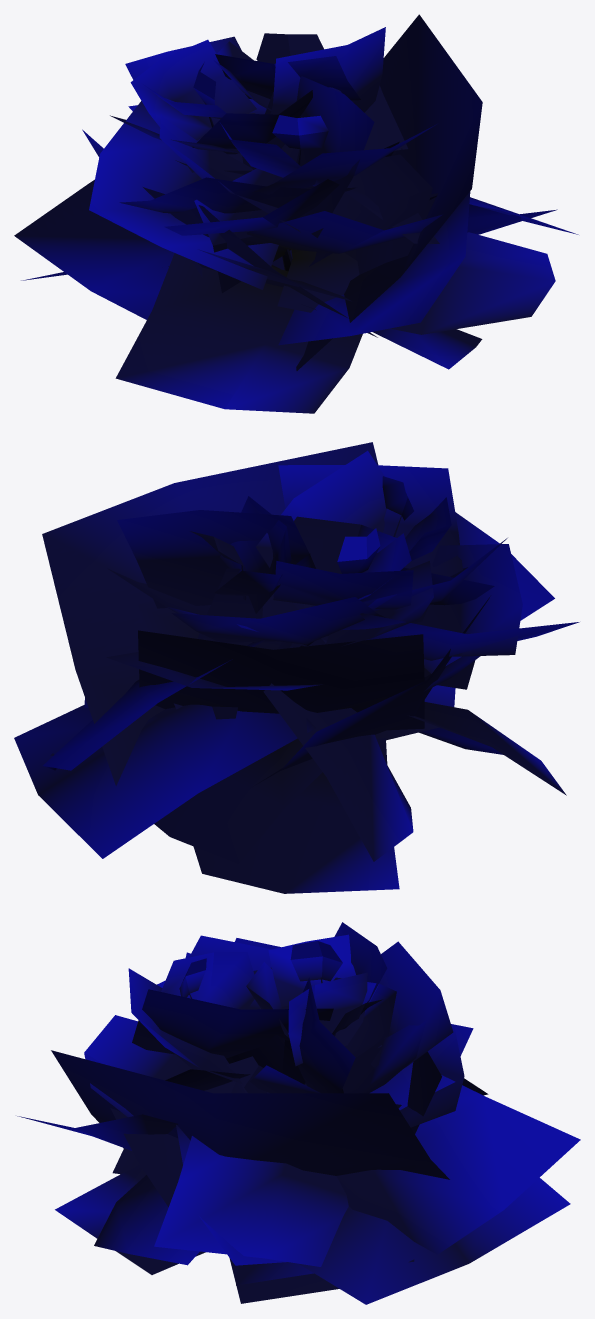
File: SM_Foliage_ShrubA_01.fbx
3 renders of one model, top to bottom at view 1: azimuth 30°, elevation 25°; view 2: azimuth 150°, elevation 25°; view 3: azimuth 270°, elevation 25°, orthographic. The views are drawn at different scales.
Visible parts, largest first — view 1: SM_Foliage_ShrubA_01; view 2: SM_Foliage_ShrubA_01; view 3: SM_Foliage_ShrubA_01.
Boxes of the visible parts, x1,y1,x2,y2 form: SM_Foliage_ShrubA_01: [14, 14, 578, 413]; SM_Foliage_ShrubA_01: [14, 442, 579, 893]; SM_Foliage_ShrubA_01: [17, 922, 580, 1304].
Size of the model in its own units: 423 by 463 by 235.
